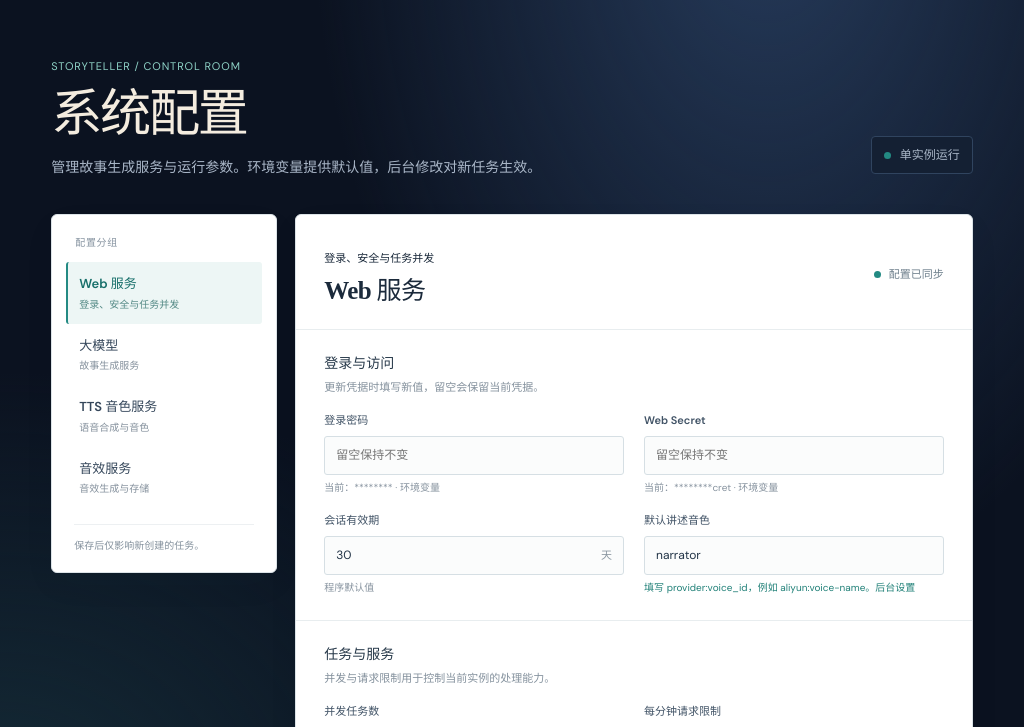
it: SettingsView › marks retiring models with a badge
Step 1. Click the button with test id "settings-nav-llm" → click(164, 354), box [66, 324, 262, 385]
(page scrolled)
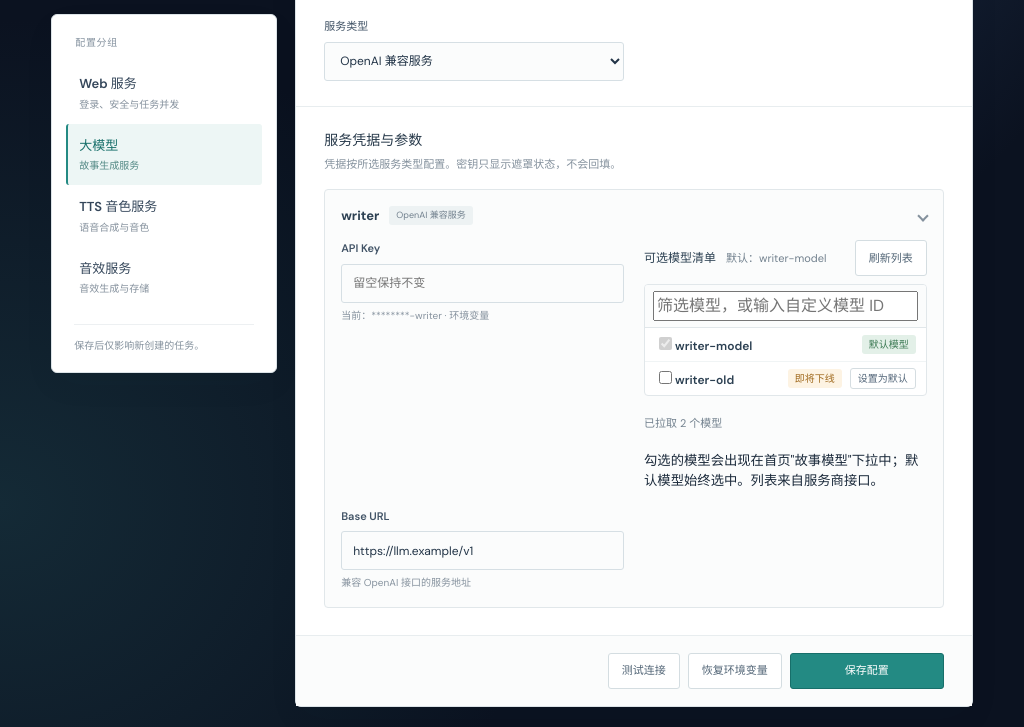
Expected: the list item does not show "即将下线"
Result: the list item "writer-old 即将下线 设置为默认" is shown at [645, 362, 926, 395]
